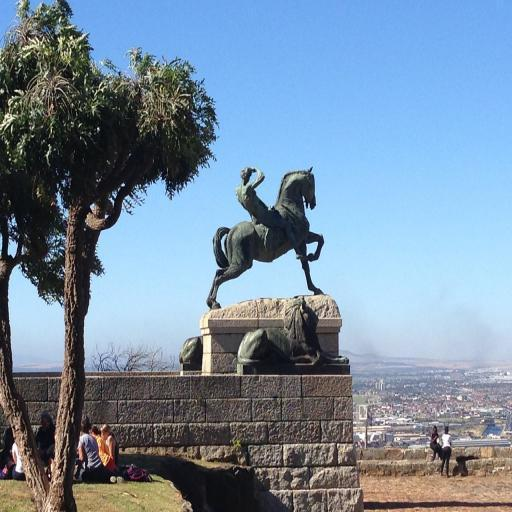horse: (204, 165, 325, 312)
